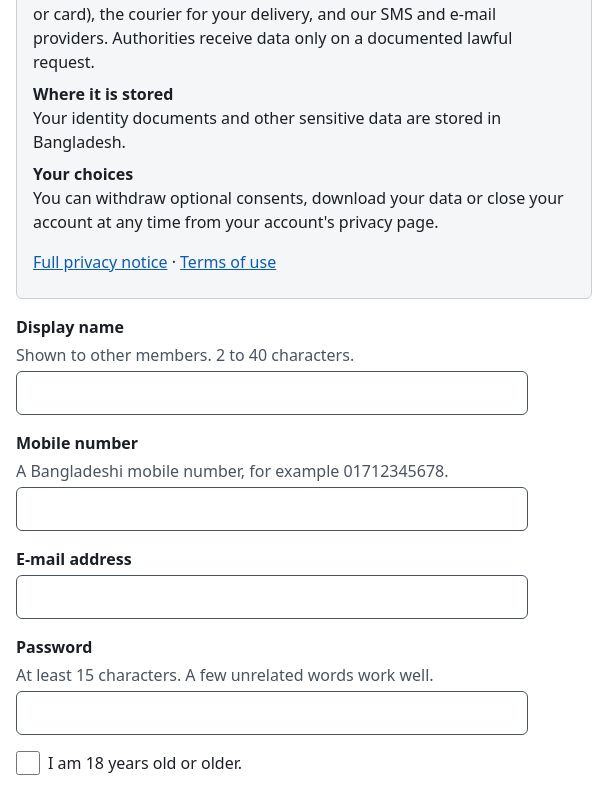
Test: outdated terms › FR-ACC-04 a 422 naming termsVersion or privacyVersion as not current asks for a reload, not a generic error
(page scrolled)
Type "Rahim" into the field labelled "Display name" at point(272, 393), box [16,371,528,415]
Type "01712345678" into the field labelled "Mobile number" at point(272, 509), box [16,487,528,531]
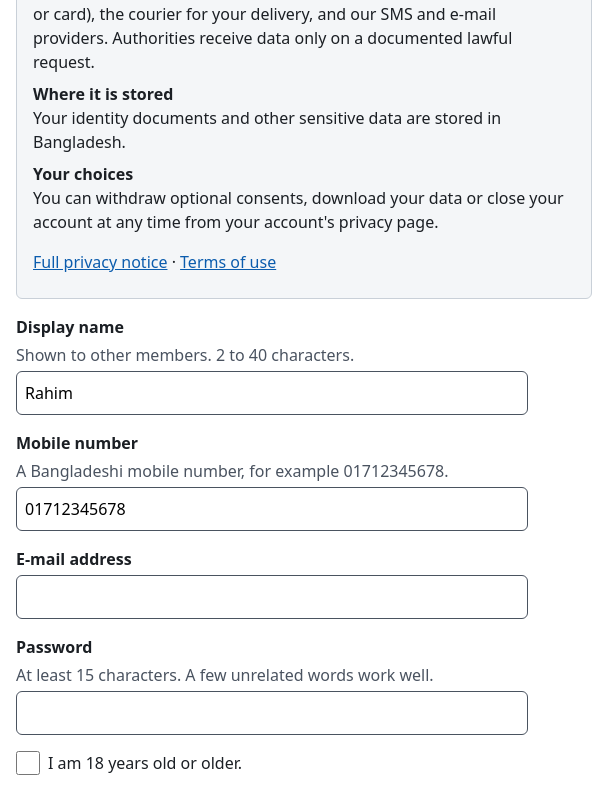
Type "rahim@example.com" into the field labelled "E-mail address" at point(272, 597), box [16,575,528,619]
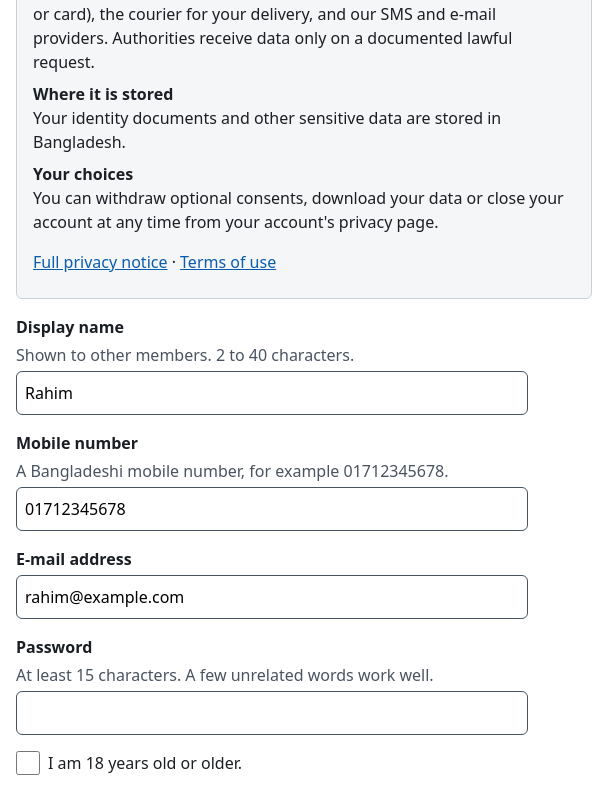
Type "correct horse battery staple" into the password field labelled "Password" at point(272, 713), box [16,691,528,735]
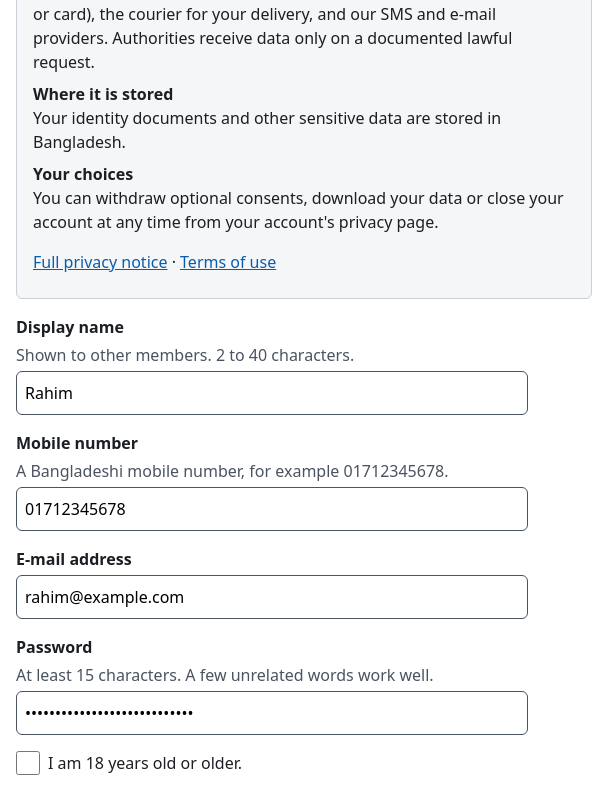
Click the checkbox labelled "I am 18 years old or older." at point(28, 763), box [16,751,40,775]
(page scrolled)
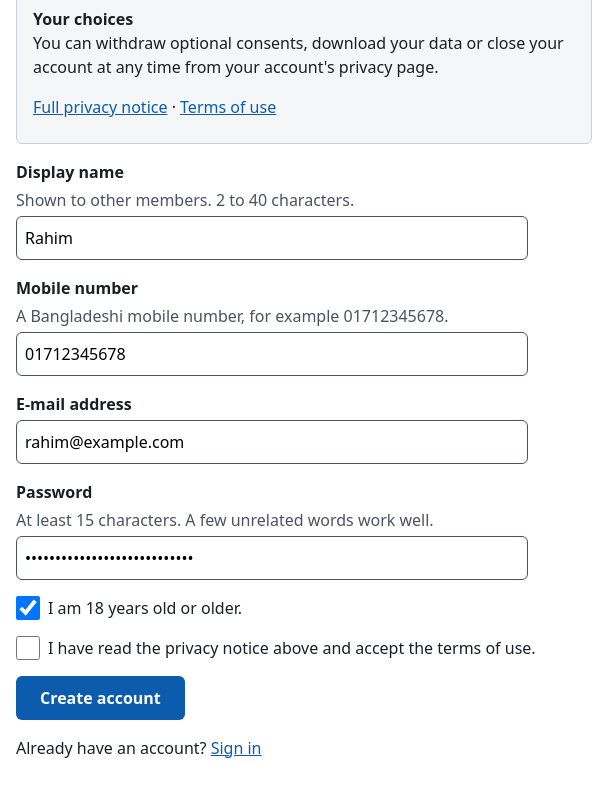
Click the checkbox labelled "accept the terms of use" at point(28, 648), box [16,636,40,660]
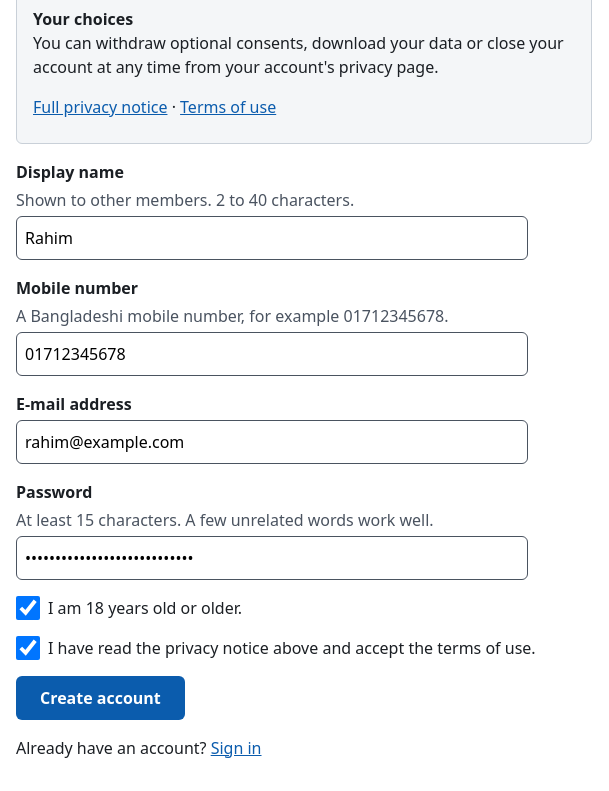
Click the button "Create account" at point(100, 698), box [16,676,185,720]
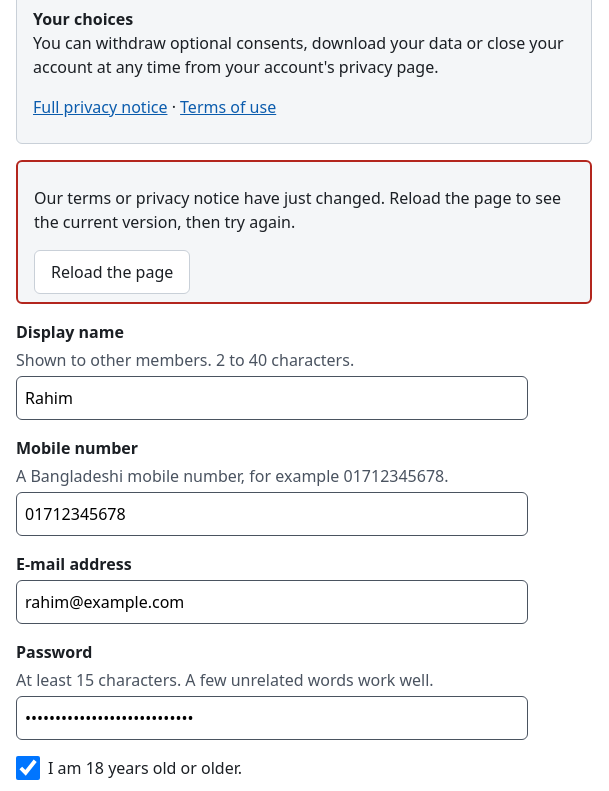
Now the message shows "terms or privacy notice have just changed", box [34,187,561,233]
Now the button "Reload the page" is shown, box [34,250,190,294]
